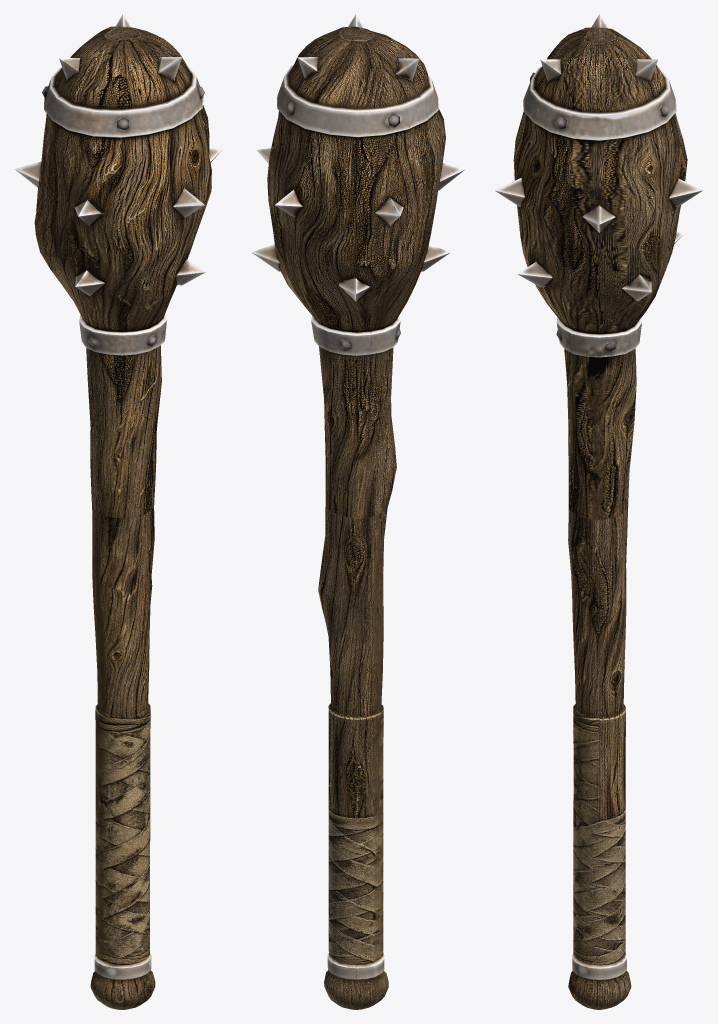
Rendered from w_club_t1.glb.
3 views of the same model, side by side, from view 1: azimuth 30°, elevation 25°; view 2: azimuth 150°, elevation 25°; view 3: azimuth 270°, elevation 25° (orthographic).
Parts seen in each view (by area): view 1: w_club; view 2: w_club; view 3: w_club.
Part boxes in pixels (left/top/right/bottom): w_club: left=14, top=14, right=221, bottom=1009; w_club: left=251, top=14, right=465, bottom=1009; w_club: left=495, top=14, right=702, bottom=1009.
Bounding box in the file's own units: 10.55 × 55.35 × 10.82.
Materials: 1 (1 with a texture image).
